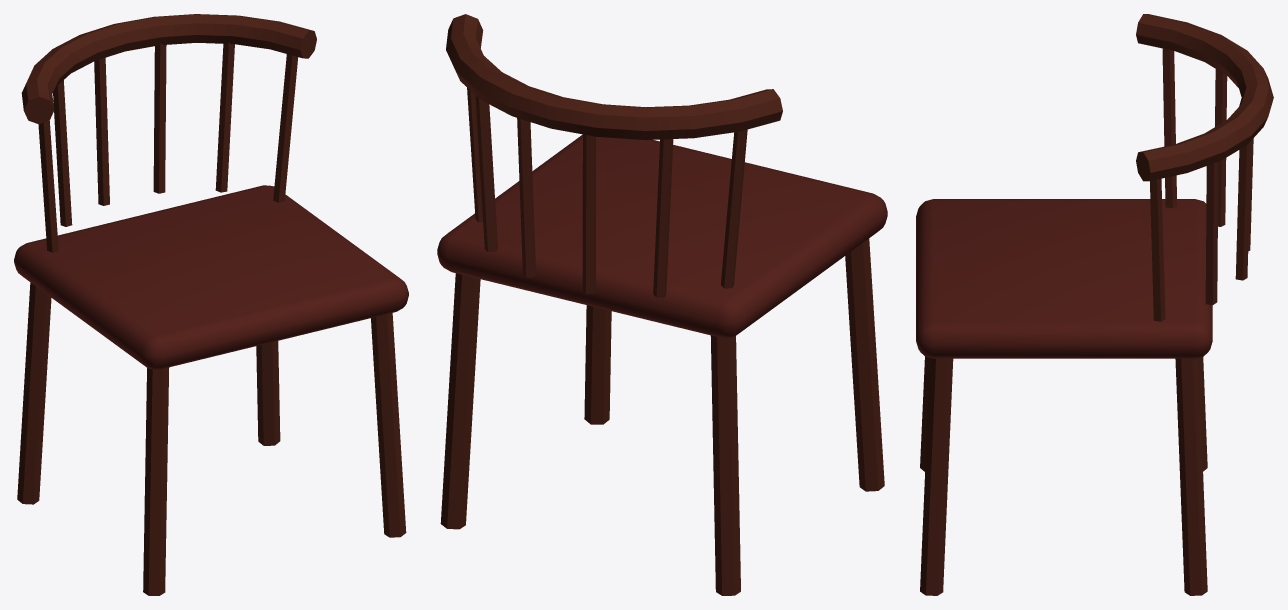
File: mae_desk_chair.glb
The picture shows the model from 3 angles, left to right: view 1: azimuth 30°, elevation 25°; view 2: azimuth 150°, elevation 25°; view 3: azimuth 270°, elevation 25°; orthographic projection. The views are drawn at different scales.
Visible parts, largest first — view 1: mae_desk_chair; view 2: mae_desk_chair; view 3: mae_desk_chair.
Part boxes in pixels (x1,y1,x2,y2): mae_desk_chair: (14, 14, 408, 595); mae_desk_chair: (437, 14, 887, 595); mae_desk_chair: (916, 14, 1273, 595).
Bounding box in the file's own units: 0.552 × 0.766 × 0.555.
